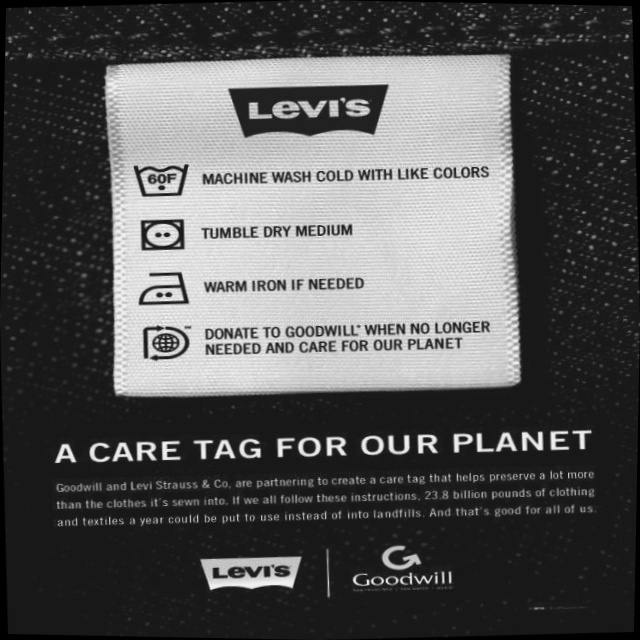30C: (131, 154, 194, 203)
iron_medium: (135, 265, 195, 312)
tumble_dry_medium: (135, 215, 191, 257)
